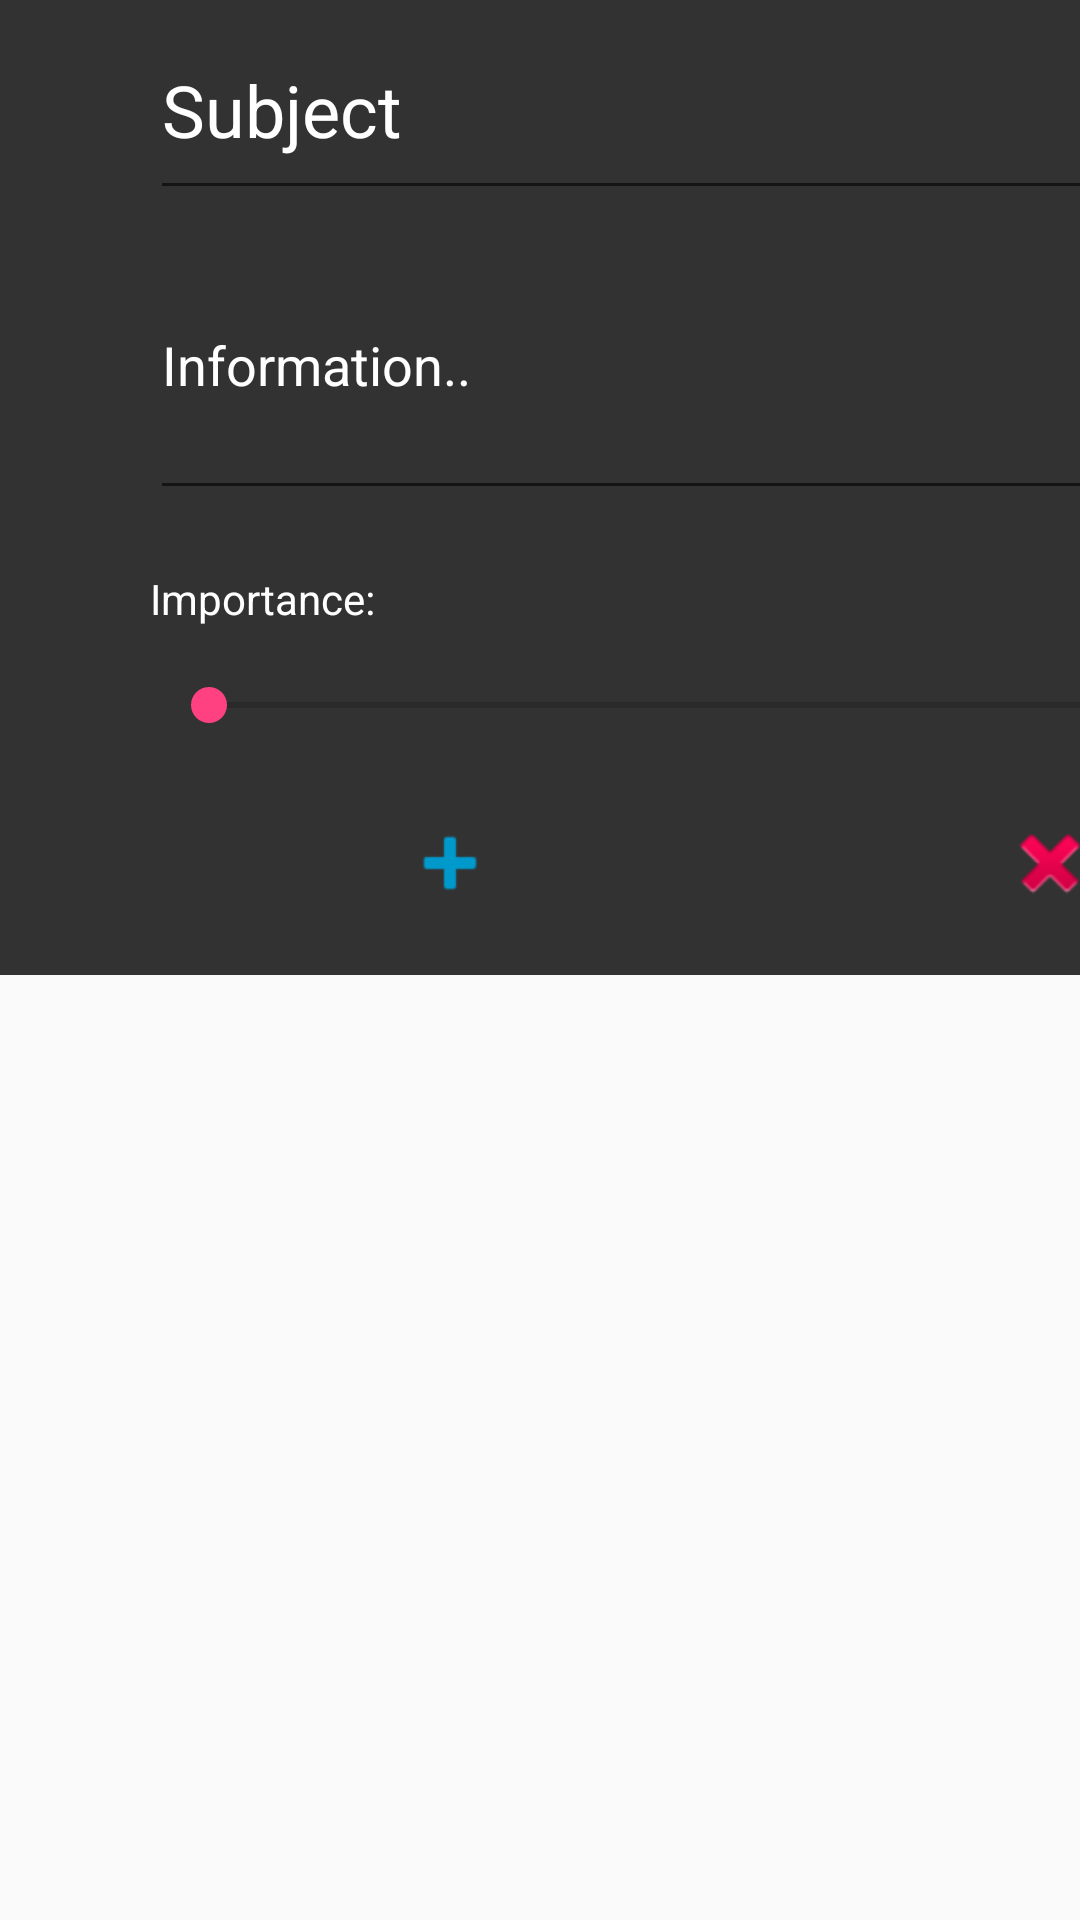

Named icons in this screenshot (1080px×1920px) and their centers, [x,y]:
add: [450,863]
